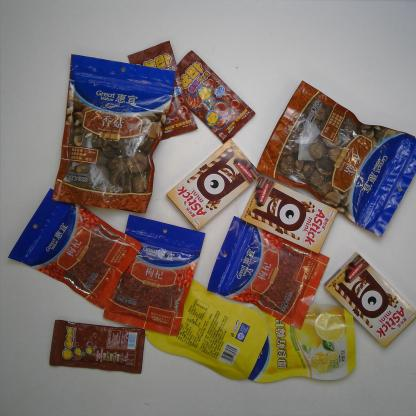Candy: (179, 48, 258, 145), (126, 39, 198, 139), (44, 318, 145, 374)
Dessert: (321, 250, 416, 350), (164, 137, 264, 231), (240, 174, 340, 255)
Dried Food: (255, 78, 416, 238), (50, 51, 176, 213)
Dried Fruit: (7, 188, 146, 312), (204, 212, 330, 331), (143, 273, 272, 382), (101, 212, 207, 337), (243, 299, 360, 383)
